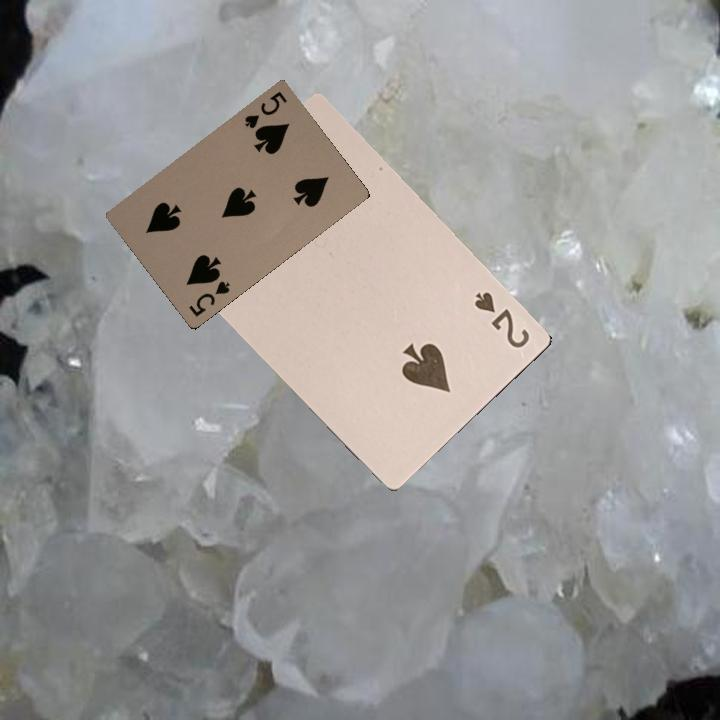2s: (470, 287, 533, 351)
5s: (240, 87, 290, 131), (185, 277, 232, 319)
